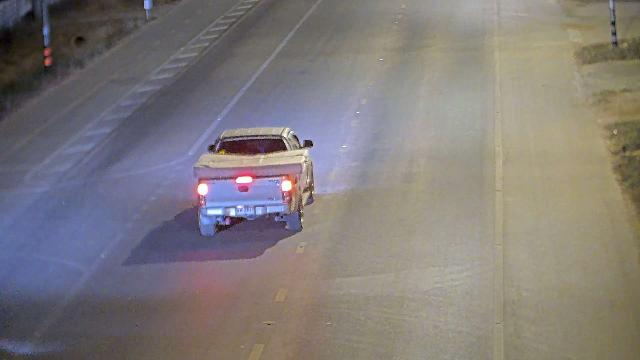pickup-truck: (192, 125, 315, 237)
